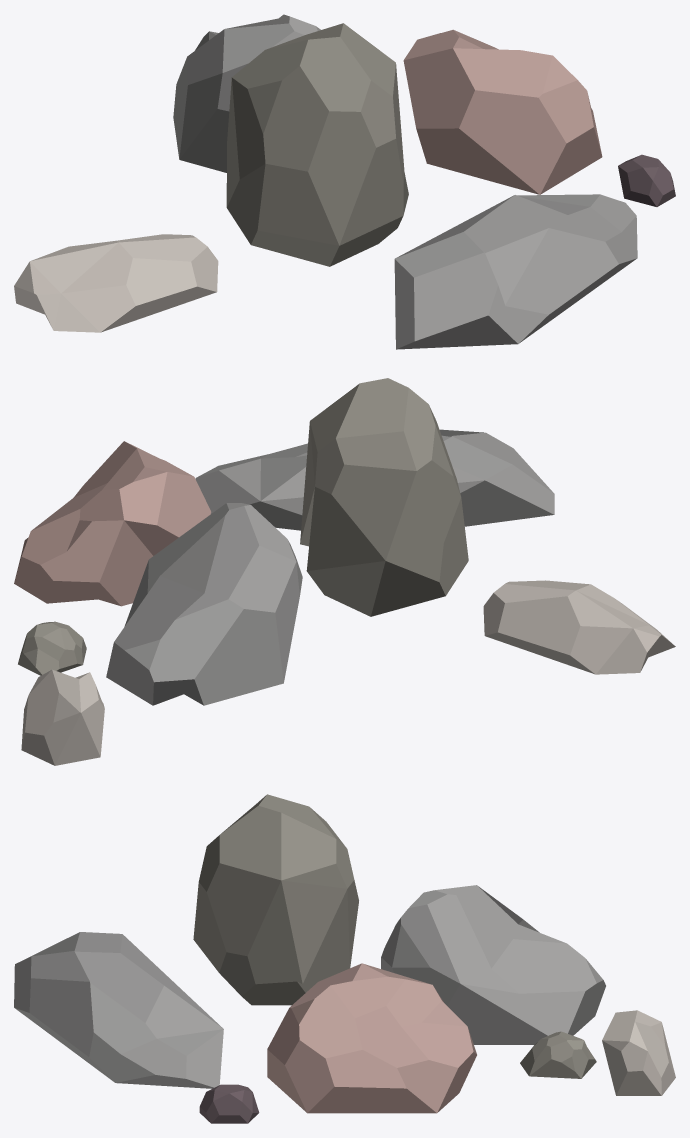
Rendered from Rocks_2.fbx.
3 renders of one model, top to bottom at view 1: azimuth 30°, elevation 25°; view 2: azimuth 150°, elevation 25°; view 3: azimuth 270°, elevation 25°, orthographic. The views are drawn at different scales.
Visible parts, largest first — view 1: Icosphere, Icosphere.002, Icosphere.001, Icosphere.005, Icosphere.004, Icosphere.003; view 2: Icosphere, Icosphere.004, Icosphere.001, Icosphere.005, Icosphere.002, Icosphere.006; view 3: Icosphere, Icosphere.001, Icosphere.004, Icosphere.002, Icosphere.005, Icosphere.006, Icosphere.003.
Part boxes in pixels (x1=…): Icosphere: x1=226, y1=23, x2=408, y2=266; Icosphere.002: x1=394, y1=194, x2=637, y2=349; Icosphere.001: x1=403, y1=29, x2=602, y2=194; Icosphere.005: x1=14, y1=234, x2=218, y2=332; Icosphere.004: x1=173, y1=14, x2=320, y2=172; Icosphere.003: x1=618, y1=154, x2=675, y2=206; Icosphere: x1=300, y1=378, x2=468, y2=616; Icosphere.004: x1=106, y1=503, x2=302, y2=705; Icosphere.001: x1=14, y1=441, x2=211, y2=606; Icosphere.005: x1=21, y1=580, x2=675, y2=765; Icosphere.002: x1=195, y1=429, x2=554, y2=530; Icosphere.006: x1=18, y1=621, x2=86, y2=675; Icosphere: x1=193, y1=794, x2=358, y2=1005; Icosphere.001: x1=267, y1=963, x2=476, y2=1113; Icosphere.004: x1=381, y1=885, x2=605, y2=1044; Icosphere.002: x1=14, y1=932, x2=223, y2=1088; Icosphere.005: x1=602, y1=1010, x2=675, y2=1095; Icosphere.006: x1=520, y1=1031, x2=596, y2=1078; Icosphere.003: x1=199, y1=1084, x2=259, y2=1123.
Bounding box in the file's own units: 713 × 293 × 771.
